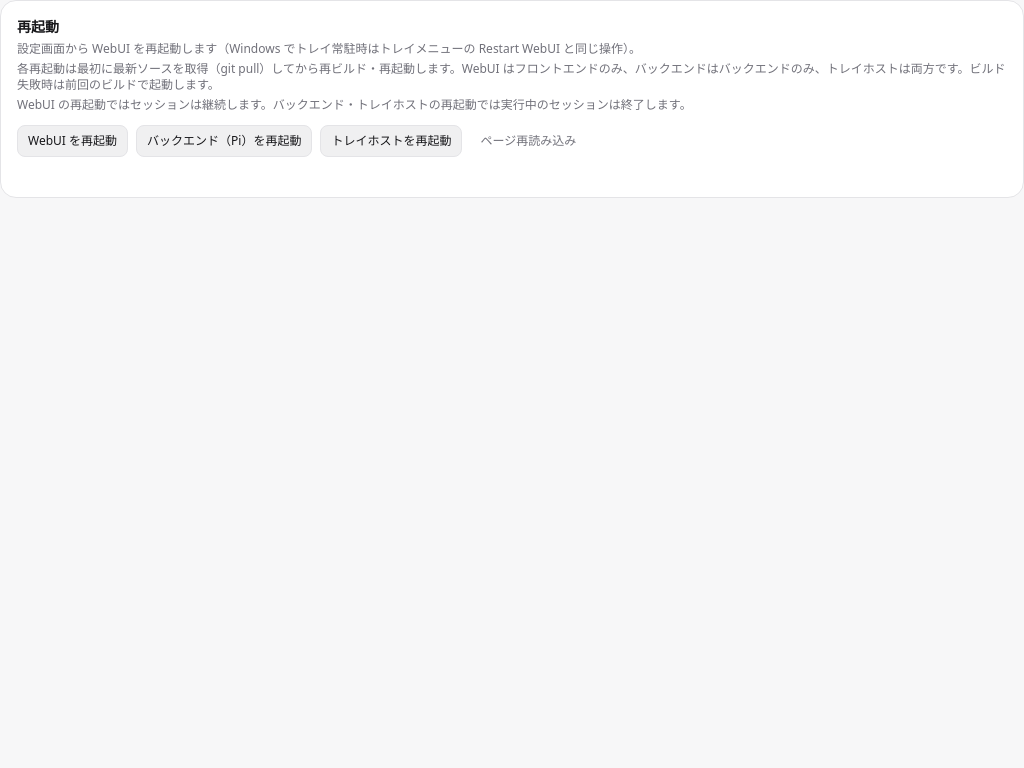
Test: HostRestartPanel › Goal Loop 中の 409 はエラーとして表示しオーバーレイを出さない
Click the button "バックエンド（Pi）を再起動". click: (224, 141)
box: [136, 125, 312, 157]
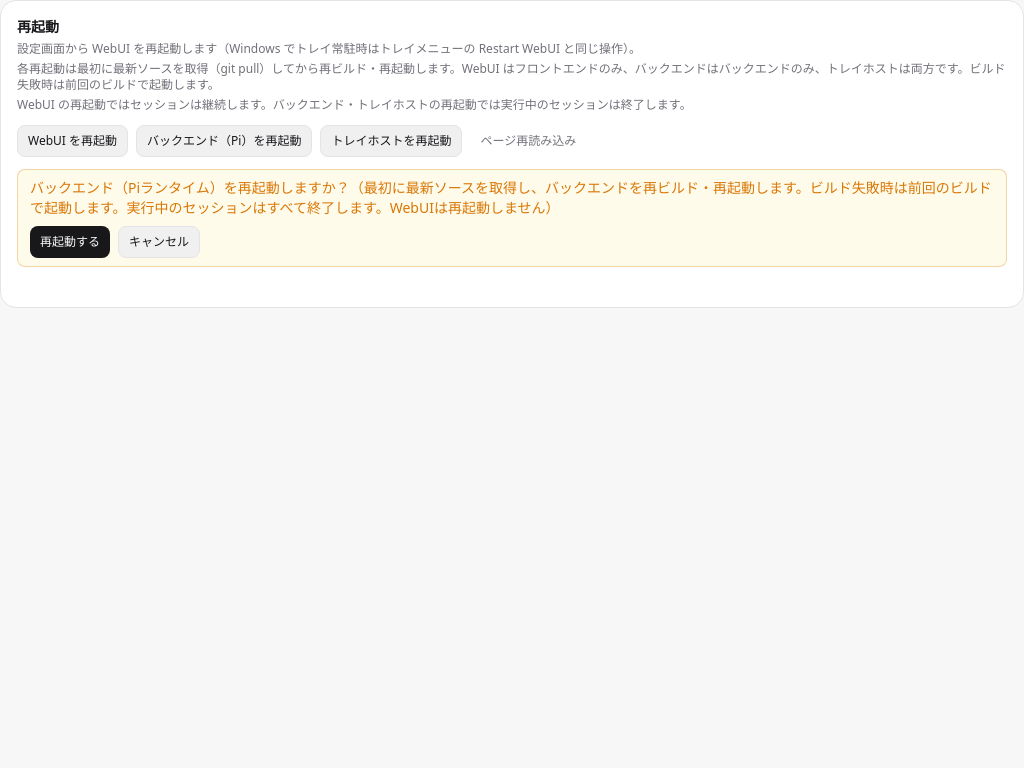
Expected: the button "再起動する" is enabled
Click the button "再起動する". click: (70, 242)
box: [30, 226, 110, 258]
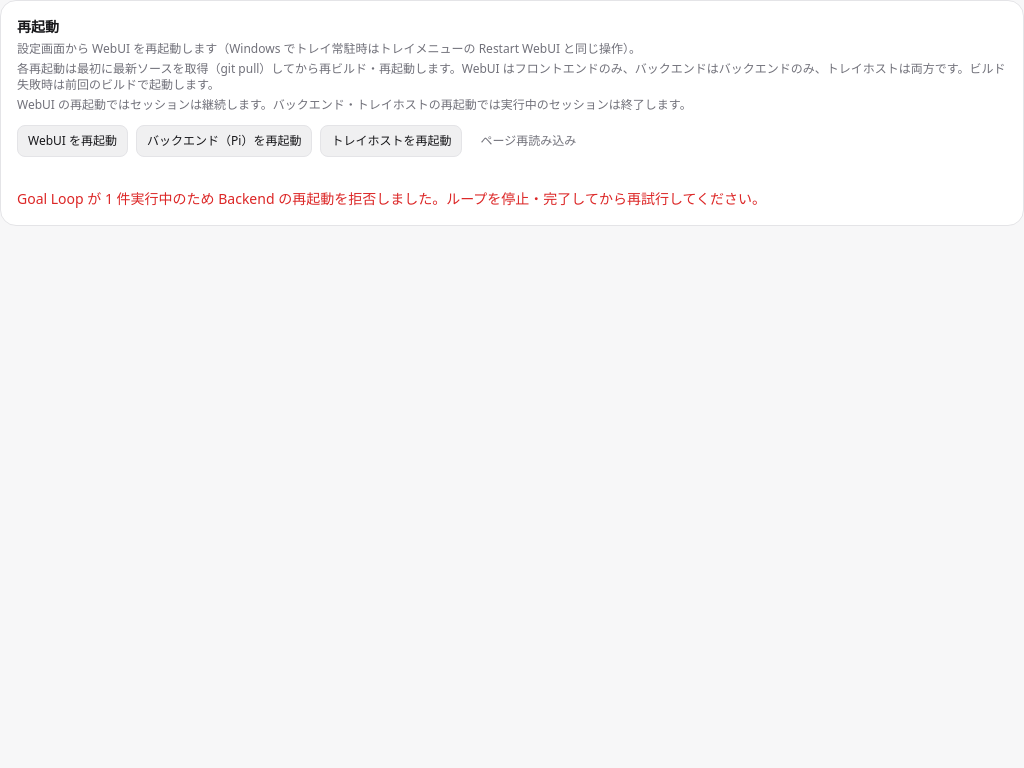
Expected: the message "Goal Loop が 1 件実行中のため Backend の再起動を拒否しました。ループを停止・完了してから再試行してください。" is shown, [17, 189, 766, 208]
